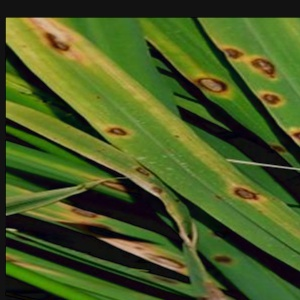Bacterial_Leaf_Blight: (23, 18, 100, 60), (191, 67, 242, 107), (244, 49, 285, 85), (254, 82, 292, 115), (139, 248, 190, 272), (97, 116, 140, 144), (226, 179, 266, 207), (216, 37, 252, 66), (66, 201, 103, 225), (206, 249, 244, 268), (284, 119, 300, 154), (130, 159, 157, 179), (145, 180, 170, 199), (211, 191, 224, 202), (171, 132, 185, 142), (171, 197, 184, 206), (269, 195, 280, 204), (253, 207, 264, 216), (94, 91, 103, 101)
